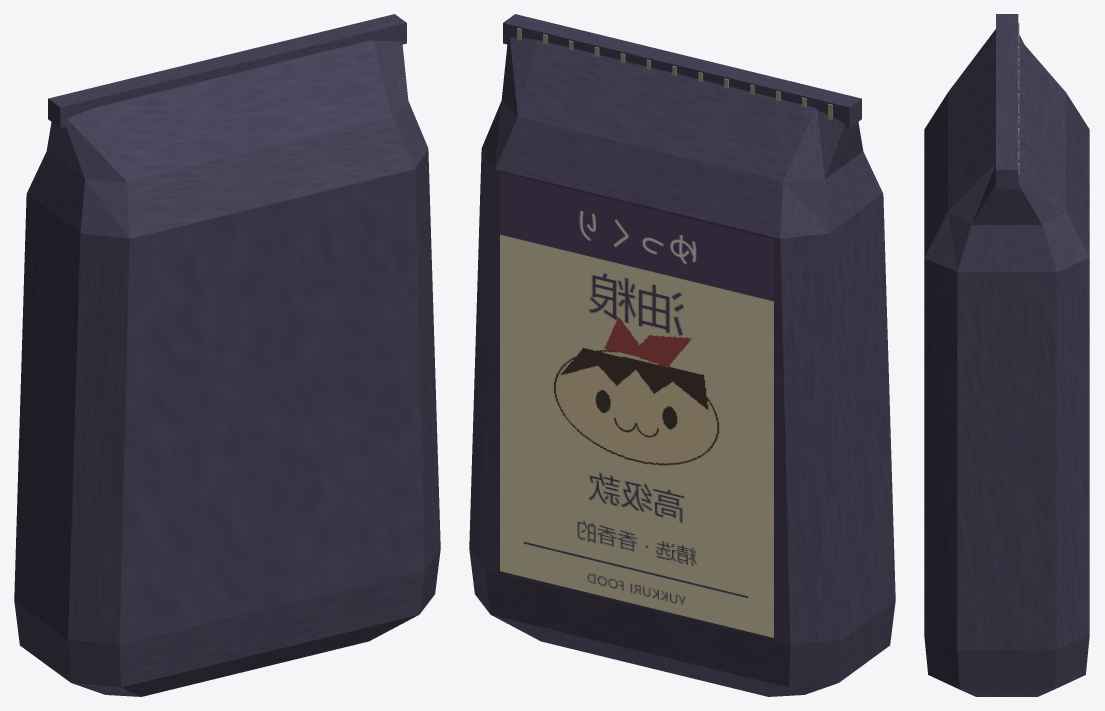
Rendered from oil_grain_premium.obj.
The picture shows the model from 3 angles, left to right: view 1: azimuth 30°, elevation 25°; view 2: azimuth 150°, elevation 25°; view 3: azimuth 270°, elevation 25°; orthographic projection. The views are drawn at different scales.
Parts seen in each view (by area): view 1: oil_grain_premium; view 2: oil_grain_premium; view 3: oil_grain_premium.
Part boxes in pixels (x1,y1,x2,y2): oil_grain_premium: (14, 14, 440, 696); oil_grain_premium: (469, 14, 895, 696); oil_grain_premium: (924, 14, 1089, 696).
Bounding box in the file's own units: 6.04 × 9.11 × 2.54.
Materials: 1 (1 with a texture image).
